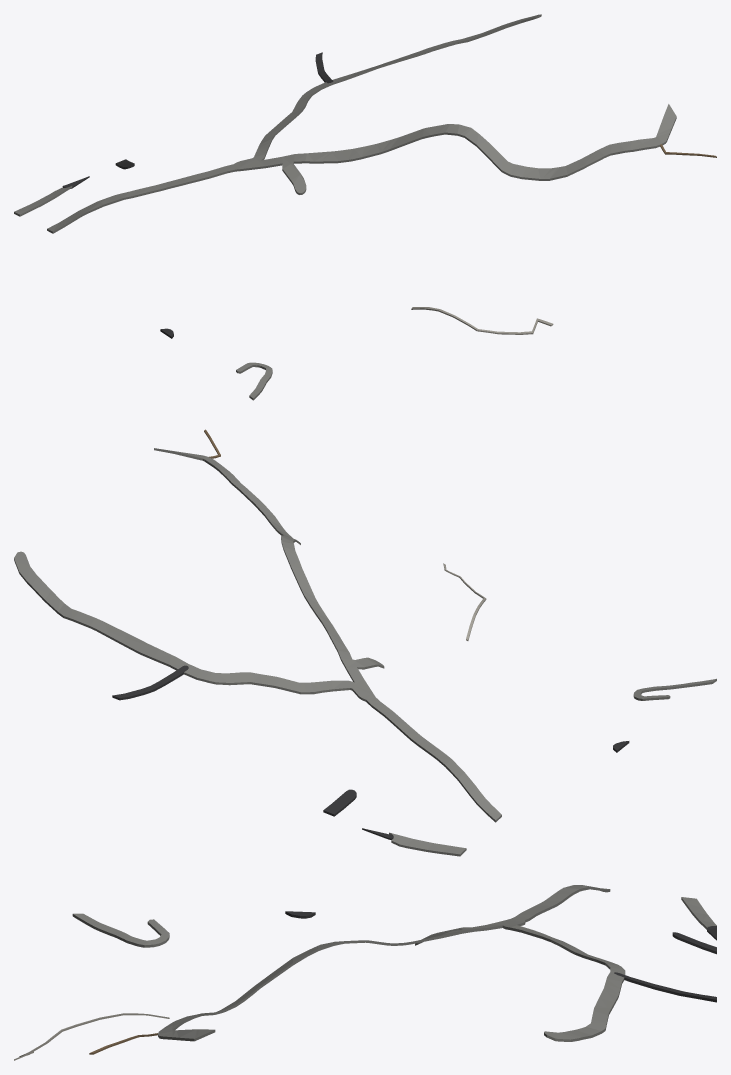
3 renders of one model, top to bottom at view 1: azimuth 30°, elevation 25°; view 2: azimuth 150°, elevation 25°; view 3: azimuth 270°, elevation 25°, orthographic. The views are drawn at different scales.
Size of the model in its own units: 293 by 86.07 by 292.
